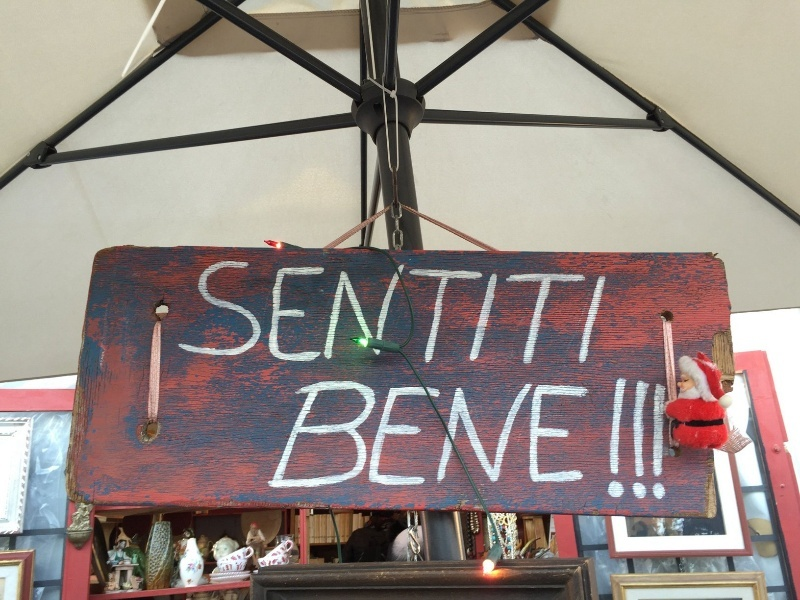text: (625, 376, 640, 501), (641, 376, 656, 501), (305, 378, 320, 491), (321, 378, 336, 491), (337, 378, 352, 491), (353, 378, 368, 491), (369, 378, 384, 491), (385, 378, 400, 491), (401, 378, 416, 491), (417, 378, 432, 491), (433, 378, 448, 491), (449, 378, 464, 491), (465, 378, 480, 491), (481, 378, 496, 491), (497, 378, 512, 491), (513, 378, 528, 491), (529, 378, 544, 491), (545, 378, 560, 491), (561, 378, 576, 491), (193, 259, 208, 368), (209, 259, 224, 368), (225, 259, 240, 368), (241, 259, 256, 368), (257, 259, 272, 368), (273, 259, 288, 368), (289, 259, 304, 368), (305, 259, 320, 368), (321, 259, 336, 368), (337, 259, 352, 368), (353, 259, 368, 368), (369, 259, 384, 368), (385, 259, 400, 368), (401, 259, 416, 368), (417, 259, 432, 368), (433, 259, 448, 368), (449, 259, 464, 368), (465, 259, 480, 368), (481, 259, 496, 368), (497, 259, 512, 368), (513, 259, 528, 368), (529, 259, 544, 368), (545, 259, 560, 368), (561, 259, 576, 368), (577, 259, 592, 368), (593, 259, 608, 368), (657, 376, 668, 501), (577, 378, 589, 491), (616, 376, 624, 501), (298, 378, 304, 491), (187, 259, 192, 368), (609, 259, 610, 368)
